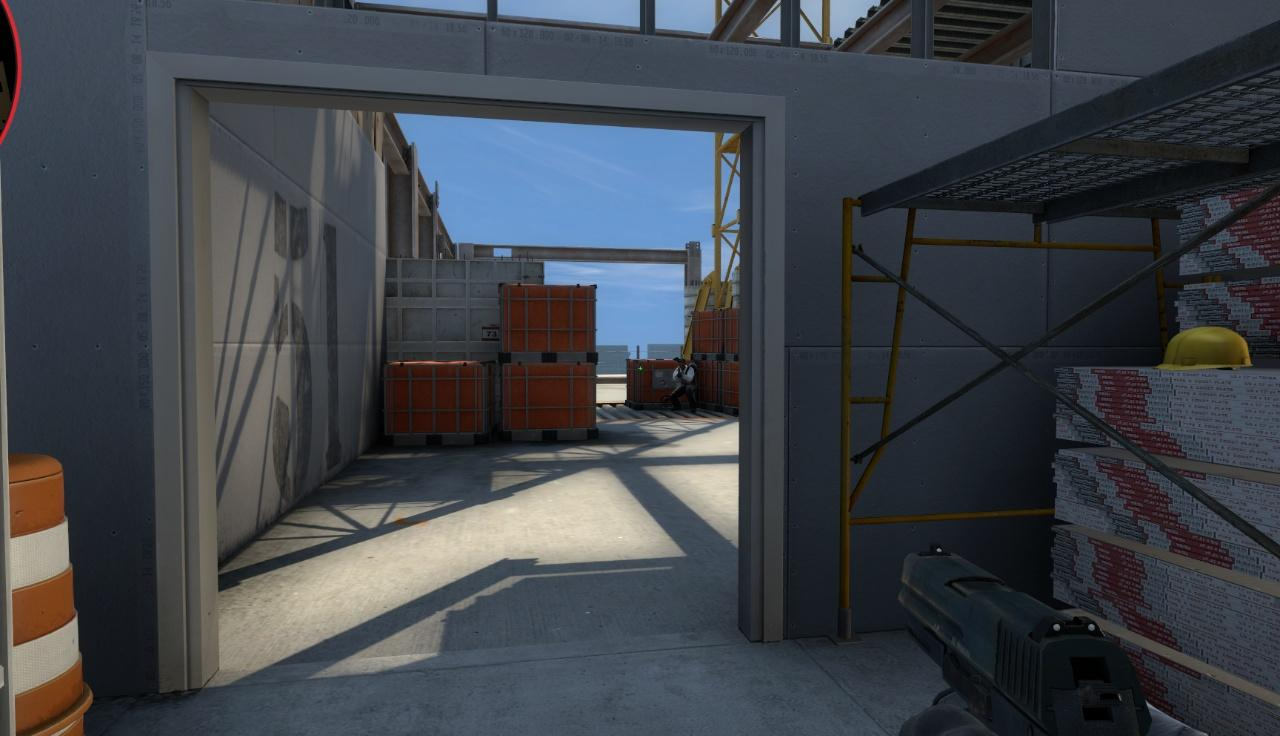pistol: (898, 546, 1160, 734)
tt: (670, 358, 698, 414)
tthead: (678, 358, 686, 369)
